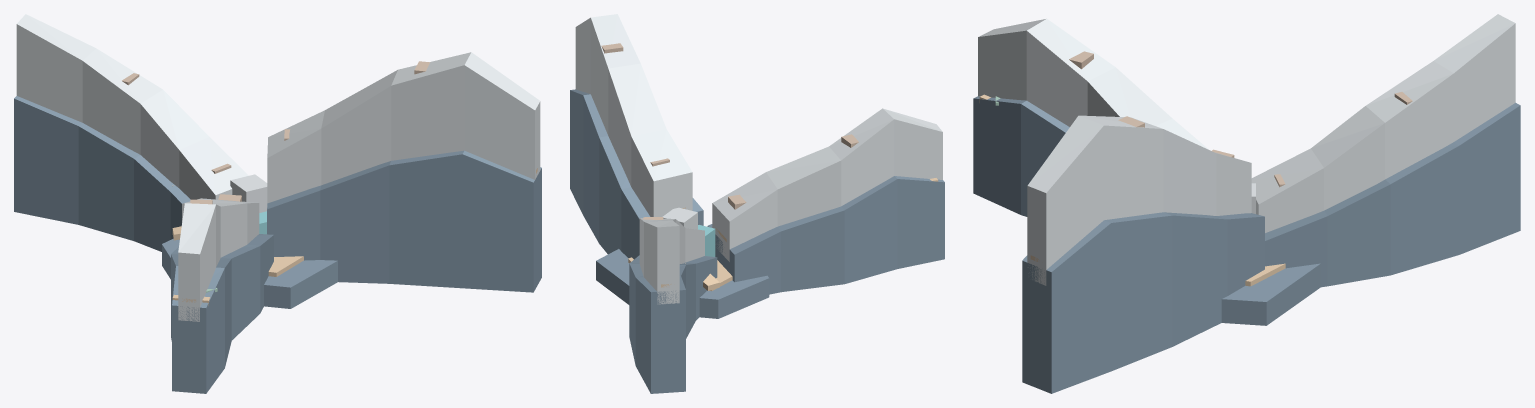
3 views of the same model, side by side, from view 1: azimuth 30°, elevation 25°; view 2: azimuth 150°, elevation 25°; view 3: azimuth 270°, elevation 25° (orthographic). The views are drawn at different scales.
Visible parts, largest first — view 1: CONFLUENCE OF THREE INHABITED WINGS; view 2: CONFLUENCE OF THREE INHABITED WINGS; view 3: CONFLUENCE OF THREE INHABITED WINGS.
Boxes of the visible parts, x1=… form: CONFLUENCE OF THREE INHABITED WINGS: x1=14, y1=14, x2=541, y2=393; CONFLUENCE OF THREE INHABITED WINGS: x1=570, y1=14, x2=944, y2=393; CONFLUENCE OF THREE INHABITED WINGS: x1=973, y1=14, x2=1520, y2=393.
Size of the model in its own units: 287 by 153 by 312.
